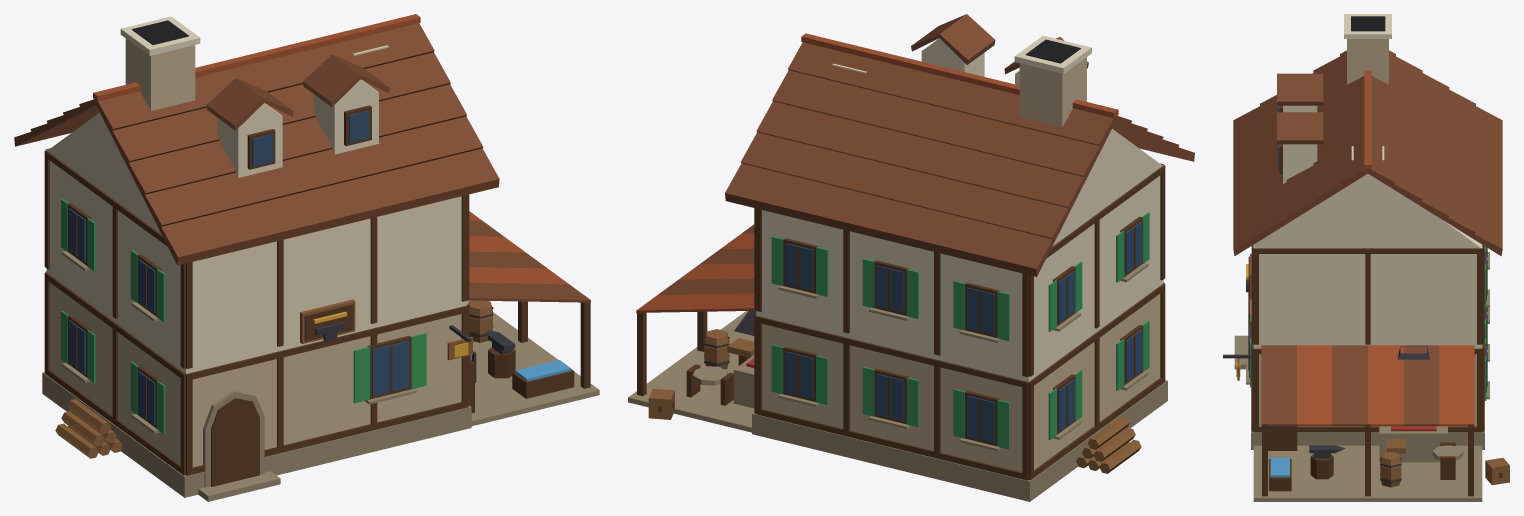
Rendered from Blacksmith.fbx.
3 views of the same model, side by side, from view 1: azimuth 30°, elevation 25°; view 2: azimuth 150°, elevation 25°; view 3: azimuth 270°, elevation 25° (orthographic). The views are drawn at different scales.
Parts seen in each view (by area): view 1: Blacksmith; view 2: Blacksmith; view 3: Blacksmith.
Part boxes in pixels (x1,y1,x2,y2): Blacksmith: (14, 14, 599, 501); Blacksmith: (628, 14, 1194, 501); Blacksmith: (1223, 14, 1509, 501).
Size of the model in its own units: 11.24 by 9.56 by 7.52.
